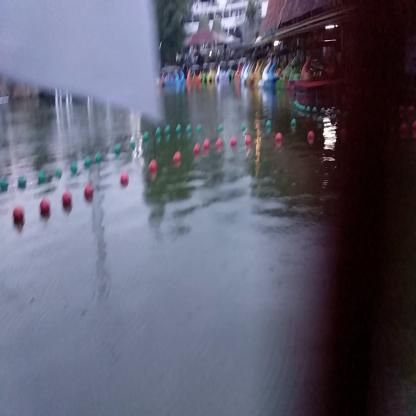green_buoy: (0, 176, 10, 192), (17, 176, 27, 188), (154, 127, 162, 139), (85, 154, 91, 168), (70, 162, 77, 174), (96, 150, 102, 163), (115, 143, 121, 155), (266, 120, 272, 130), (176, 124, 181, 136), (130, 138, 136, 148), (39, 172, 44, 182), (291, 117, 296, 126), (144, 132, 148, 142), (166, 125, 170, 134)
red_buoy: (13, 207, 23, 223), (63, 192, 71, 208), (40, 202, 50, 214), (149, 161, 156, 176), (174, 153, 181, 166), (121, 173, 128, 186), (193, 144, 200, 156), (85, 186, 91, 200), (308, 130, 314, 143), (275, 132, 282, 143), (203, 139, 210, 148), (231, 137, 236, 148), (216, 140, 222, 149), (246, 136, 251, 146)
